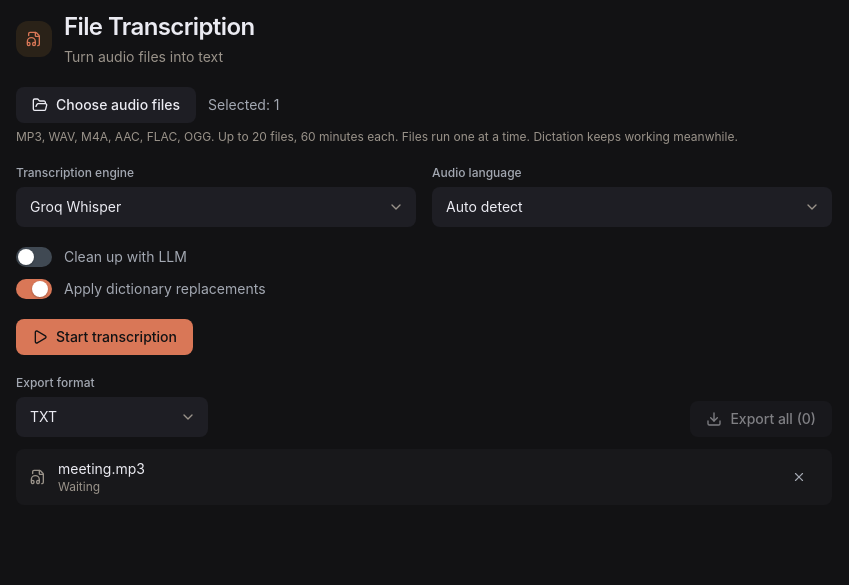
it: FileTranscriptionPanel › shows the LLM engine picker only while cleanup is enabled
This screenshot has width=849, height=585.
Expected: the field labelled "LLM engine" is not shown
Click the switch labelled "Clean up with LLM": (34, 257) [16,247,832,267]
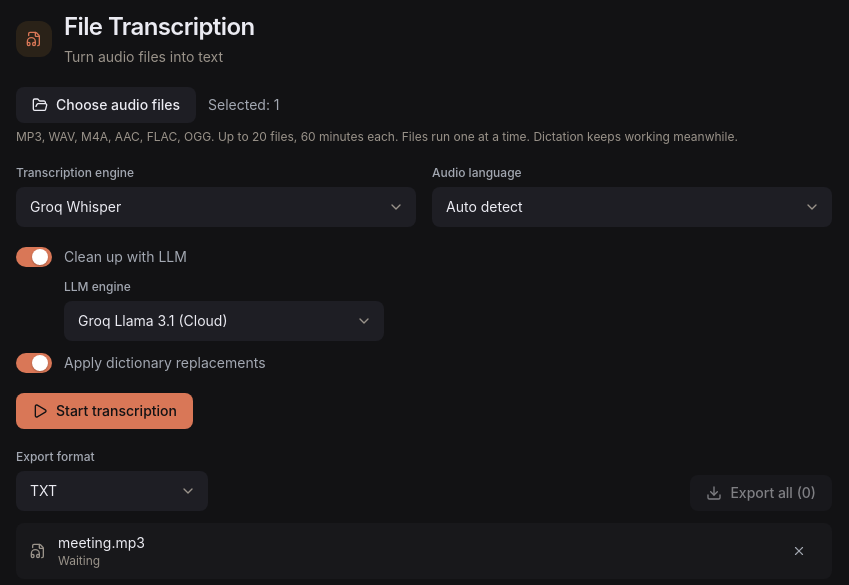
Expected: the dropdown labelled "LLM engine" shows "Groq Llama 3.1 (Cloud)", [64,301,384,341]
Expected: the dropdown labelled "LLM engine" is enabled, [64,301,384,341]
